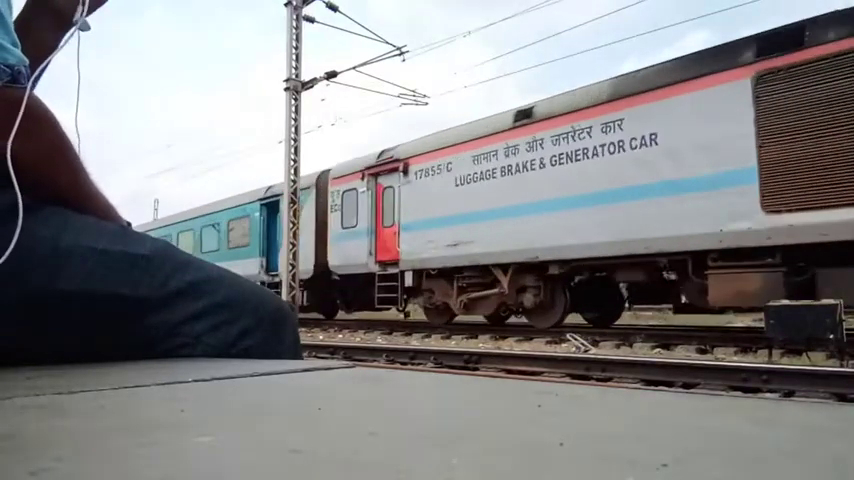Boogie: (407, 162, 459, 179)
Car Type: (451, 110, 661, 197)
